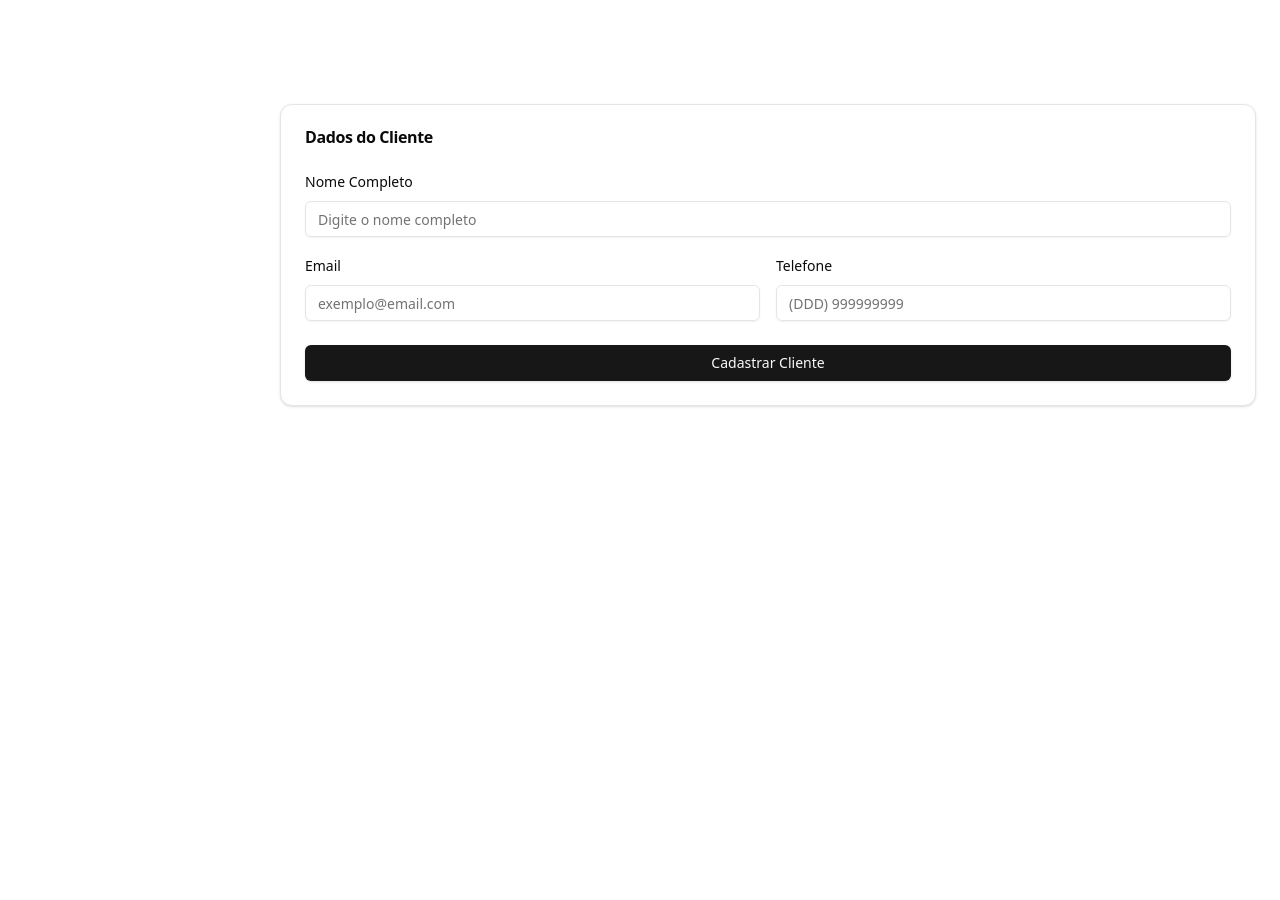
Test: FormClientRegister › envia formulário com sucesso
In the field labelled "Nome Completo": (768, 219) 305,201 -> 1231,237, type "Ana Silva"
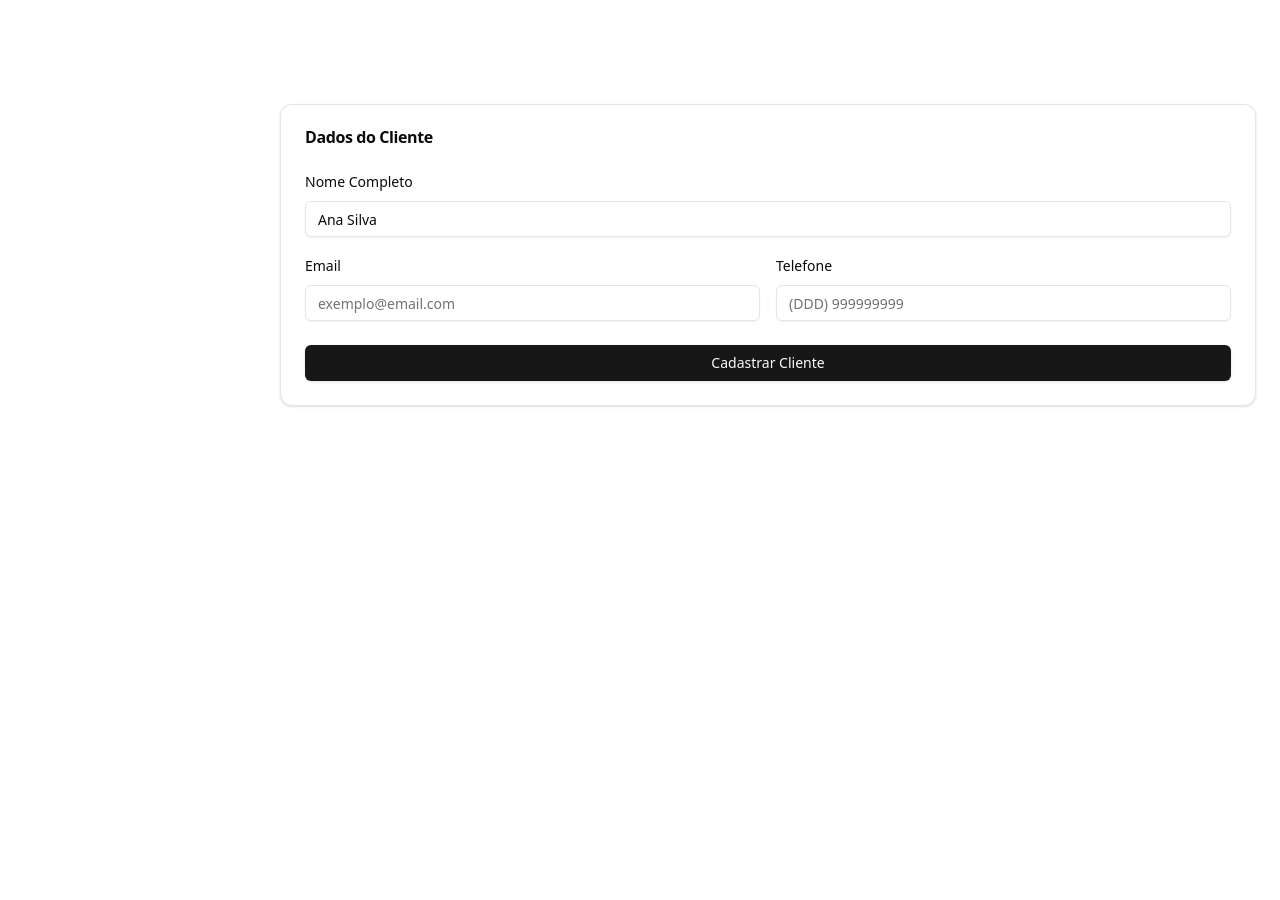
In the field labelled "Email": (532, 303) 305,285 -> 760,321, type "ana@email.com"
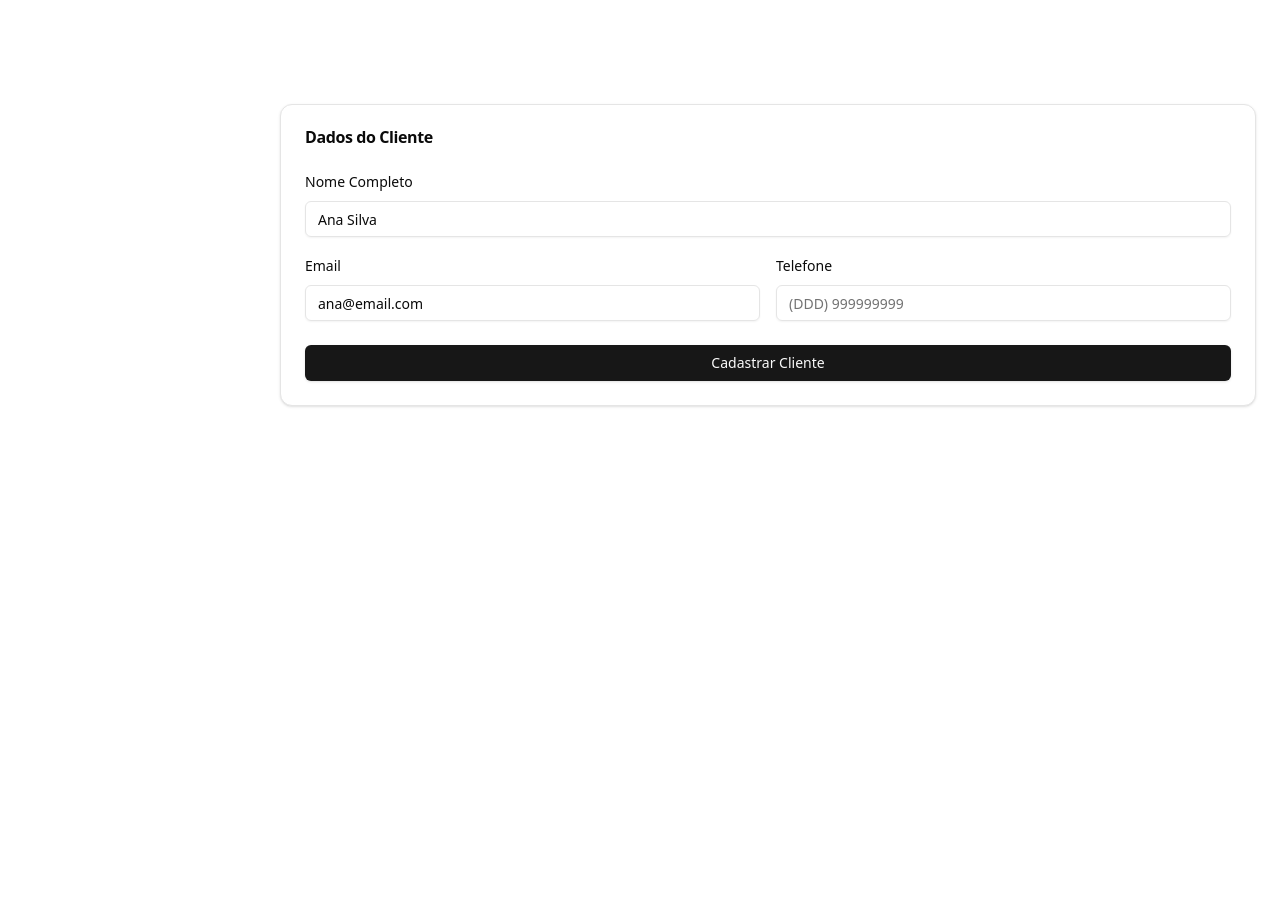
In the field labelled "Telefone": (1004, 303) 776,285 -> 1231,321, type "(21)988887777"
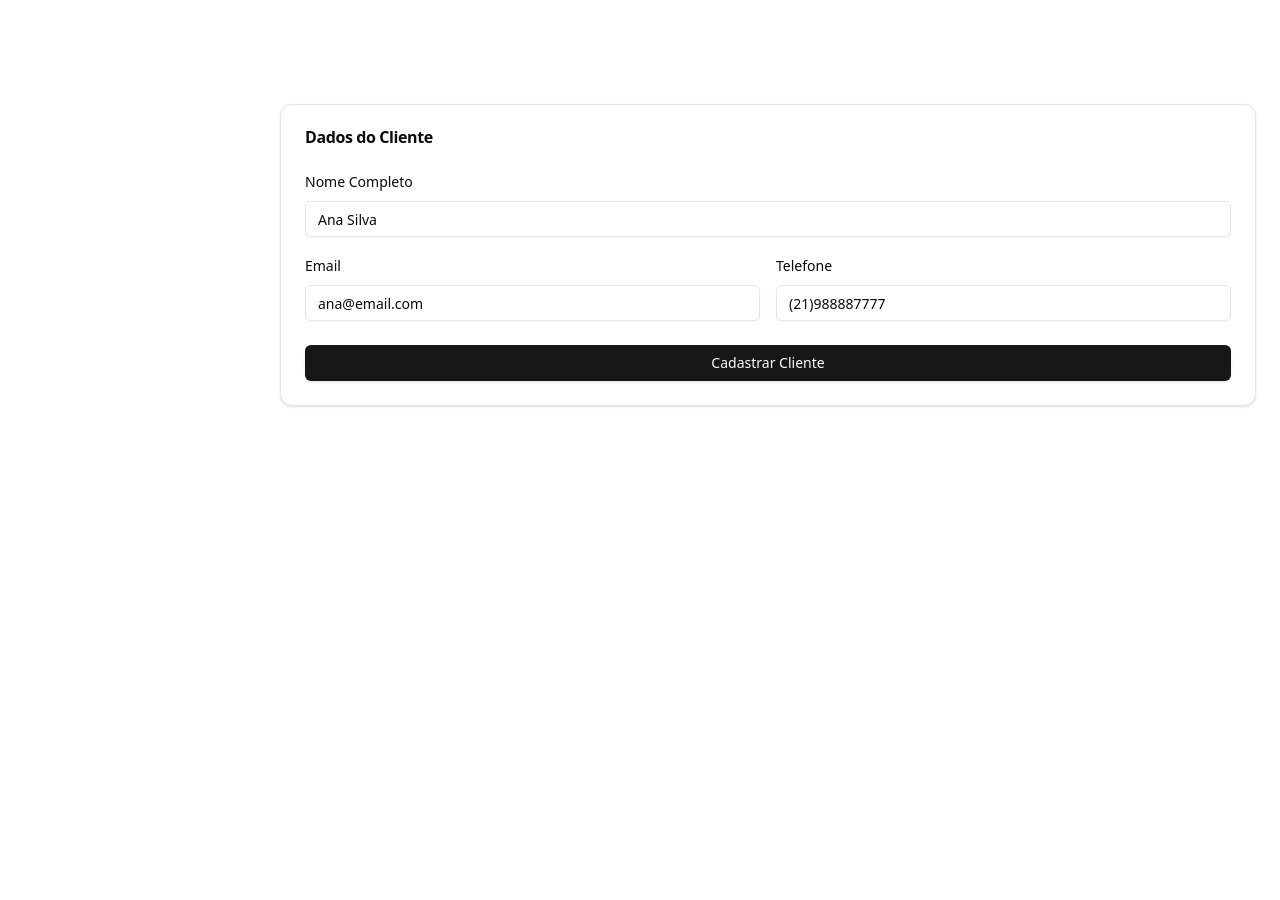
Click the button "Cadastrar Cliente": (768, 363) 305,345 -> 1231,381
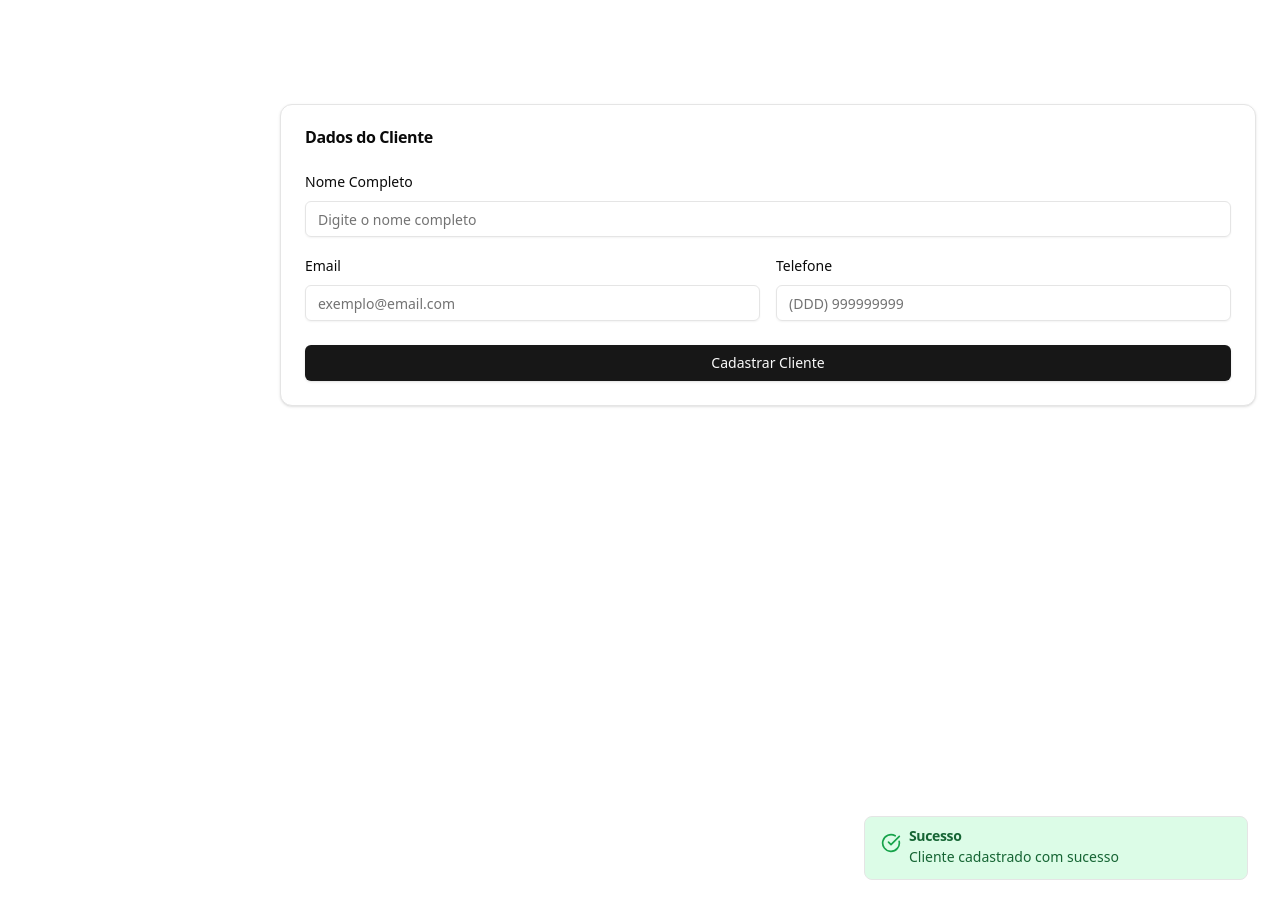
Expected: the text "Cliente cadastrado com sucesso" is shown, 909,847 -> 1119,866
